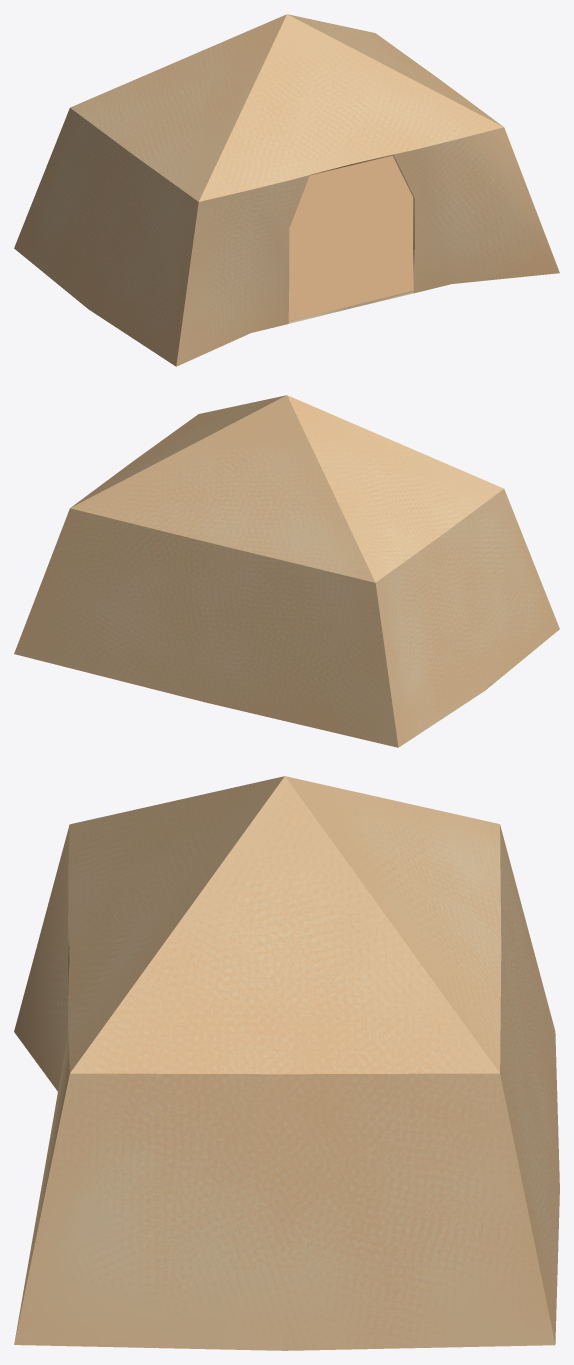
The model's file is Tent_Command.fbx.
3 renders of one model, top to bottom at view 1: azimuth 30°, elevation 25°; view 2: azimuth 150°, elevation 25°; view 3: azimuth 270°, elevation 25°, orthographic. The views are drawn at different scales.
Visible parts, largest first — view 1: Tent_Command; view 2: Tent_Command; view 3: Tent_Command.
Part boxes in pixels (bbox=[...]): Tent_Command: bbox=[14, 14, 559, 366]; Tent_Command: bbox=[14, 395, 559, 747]; Tent_Command: bbox=[14, 776, 559, 1350].
Bounding box in the file's own units: 336 × 201 × 240.
